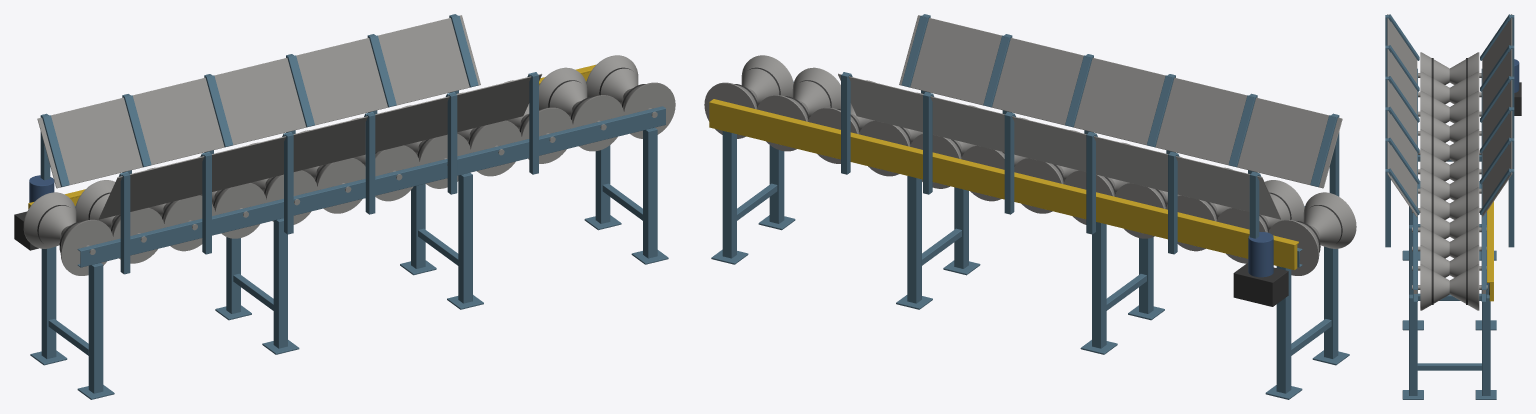
Rendered from debarker_infeed.glb.
3 renders of one model, left to right at view 1: azimuth 30°, elevation 25°; view 2: azimuth 150°, elevation 25°; view 3: azimuth 270°, elevation 25°, orthographic. The views are drawn at different scales.
Parts seen in each view (by area): view 1: IN_DumpSkids, INFrame, IN_Roll0Mesh, IN_Roll11Mesh, IN_Roll10Mesh, IN_Roll1Mesh, IN_Roll8Mesh, IN_Roll5Mesh, IN_Roll3Mesh, IN_Roll2Mesh, IN_Roll9Mesh, IN_Roll6Mesh (+2 smaller); view 2: IN_DumpSkids, INFrame, IN_Roll0Mesh, IN_Roll11Mesh, IN_Roll10Mesh, IN_Roll1Mesh, IN_Roll8Mesh, IN_Roll5Mesh, IN_Roll3Mesh, IN_Roll9Mesh, IN_Roll2Mesh, IN_Roll6Mesh (+2 smaller); view 3: IN_DumpSkids, INFrame, IN_Roll11Mesh, IN_Roll8Mesh, IN_Roll9Mesh, IN_Roll10Mesh, IN_Roll2Mesh, IN_Roll6Mesh, IN_Roll1Mesh, IN_Roll5Mesh, IN_Roll0Mesh, IN_Roll3Mesh (+2 smaller).
Boxes of the visible parts, x1=… form: IN_DumpSkids: x1=37, y1=14, x2=542, y2=274; INFrame: x1=14, y1=64, x2=668, y2=399; IN_Roll0Mesh: x1=23, y1=192, x2=113, y2=275; IN_Roll11Mesh: x1=586, y1=55, x2=675, y2=138; IN_Roll10Mesh: x1=539, y1=67, x2=624, y2=151; IN_Roll1Mesh: x1=75, y1=180, x2=164, y2=263; IN_Roll8Mesh: x1=456, y1=92, x2=522, y2=176; IN_Roll5Mesh: x1=300, y1=130, x2=365, y2=213; IN_Roll3Mesh: x1=198, y1=156, x2=266, y2=238; IN_Roll2Mesh: x1=147, y1=167, x2=215, y2=251; IN_Roll9Mesh: x1=504, y1=80, x2=572, y2=163; IN_Roll6Mesh: x1=352, y1=117, x2=419, y2=201; IN_DumpSkids: x1=838, y1=14, x2=1342, y2=254; INFrame: x1=709, y1=81, x2=1349, y2=399; IN_Roll0Mesh: x1=1268, y1=192, x2=1356, y2=275; IN_Roll11Mesh: x1=704, y1=55, x2=793, y2=138; IN_Roll10Mesh: x1=757, y1=67, x2=840, y2=151; IN_Roll1Mesh: x1=1216, y1=180, x2=1304, y2=263; IN_Roll8Mesh: x1=859, y1=92, x2=923, y2=176; IN_Roll5Mesh: x1=1014, y1=130, x2=1079, y2=213; IN_Roll3Mesh: x1=1114, y1=156, x2=1181, y2=238; IN_Roll9Mesh: x1=808, y1=80, x2=875, y2=163; IN_Roll2Mesh: x1=1165, y1=167, x2=1232, y2=251; IN_Roll6Mesh: x1=961, y1=117, x2=1027, y2=201; IN_DumpSkids: x1=1385, y1=14, x2=1514, y2=247; INFrame: x1=1402, y1=59, x2=1521, y2=399; IN_Roll11Mesh: x1=1412, y1=264, x2=1489, y2=310; IN_Roll8Mesh: x1=1412, y1=206, x2=1486, y2=239; IN_Roll9Mesh: x1=1412, y1=225, x2=1486, y2=258; IN_Roll10Mesh: x1=1412, y1=245, x2=1486, y2=277; IN_Roll2Mesh: x1=1418, y1=91, x2=1481, y2=123; IN_Roll6Mesh: x1=1418, y1=168, x2=1481, y2=200; IN_Roll1Mesh: x1=1418, y1=71, x2=1481, y2=104; IN_Roll5Mesh: x1=1418, y1=148, x2=1481, y2=181; IN_Roll0Mesh: x1=1418, y1=52, x2=1481, y2=84; IN_Roll3Mesh: x1=1418, y1=110, x2=1481, y2=142.
Bounding box in the file's own units: 7.81 × 2.77 × 1.94.
